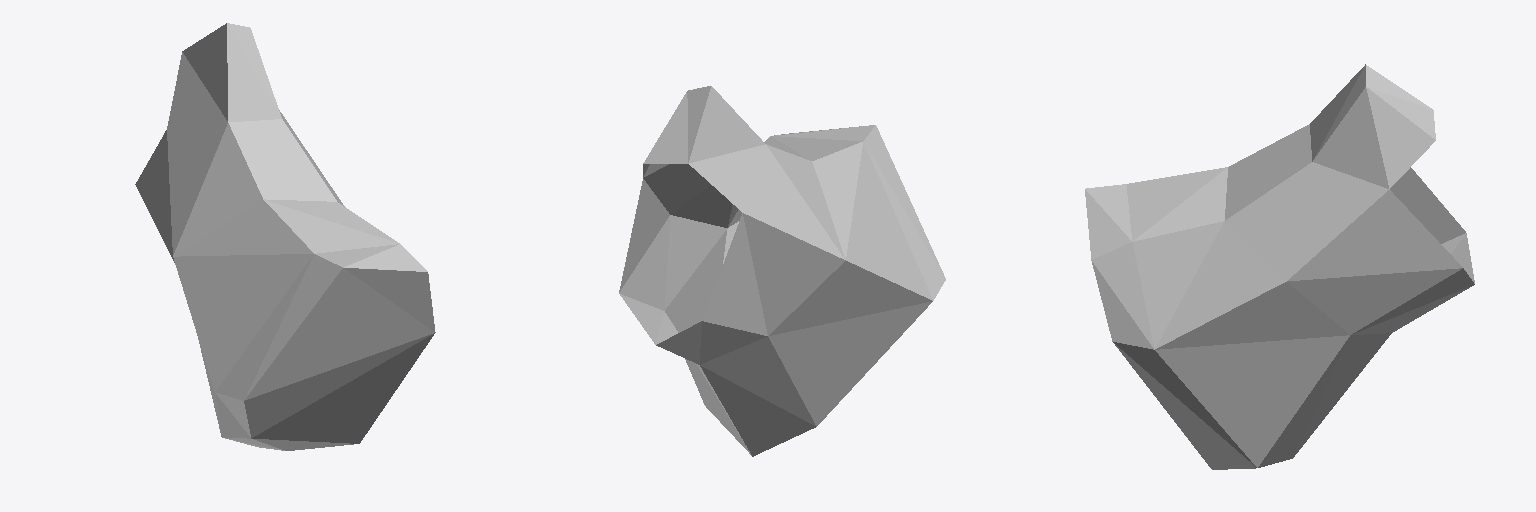
The model's file is patte_ar_d_2.obj.
The picture shows the model from 3 angles: view 1: azimuth 30°, elevation 25°; view 2: azimuth 150°, elevation 25°; view 3: azimuth 270°, elevation 25°; orthographic projection.
Visible parts, largest first — view 1: Wolf.009_Wolf.018; view 2: Wolf.009_Wolf.018; view 3: Wolf.009_Wolf.018.
Boxes of the visible parts, <box> form: Wolf.009_Wolf.018: <box>135,23,435,450</box>; Wolf.009_Wolf.018: <box>619,86,945,456</box>; Wolf.009_Wolf.018: <box>1085,64,1474,469</box>.
Size of the model in its own units: 9.62 by 17.65 by 15.75.